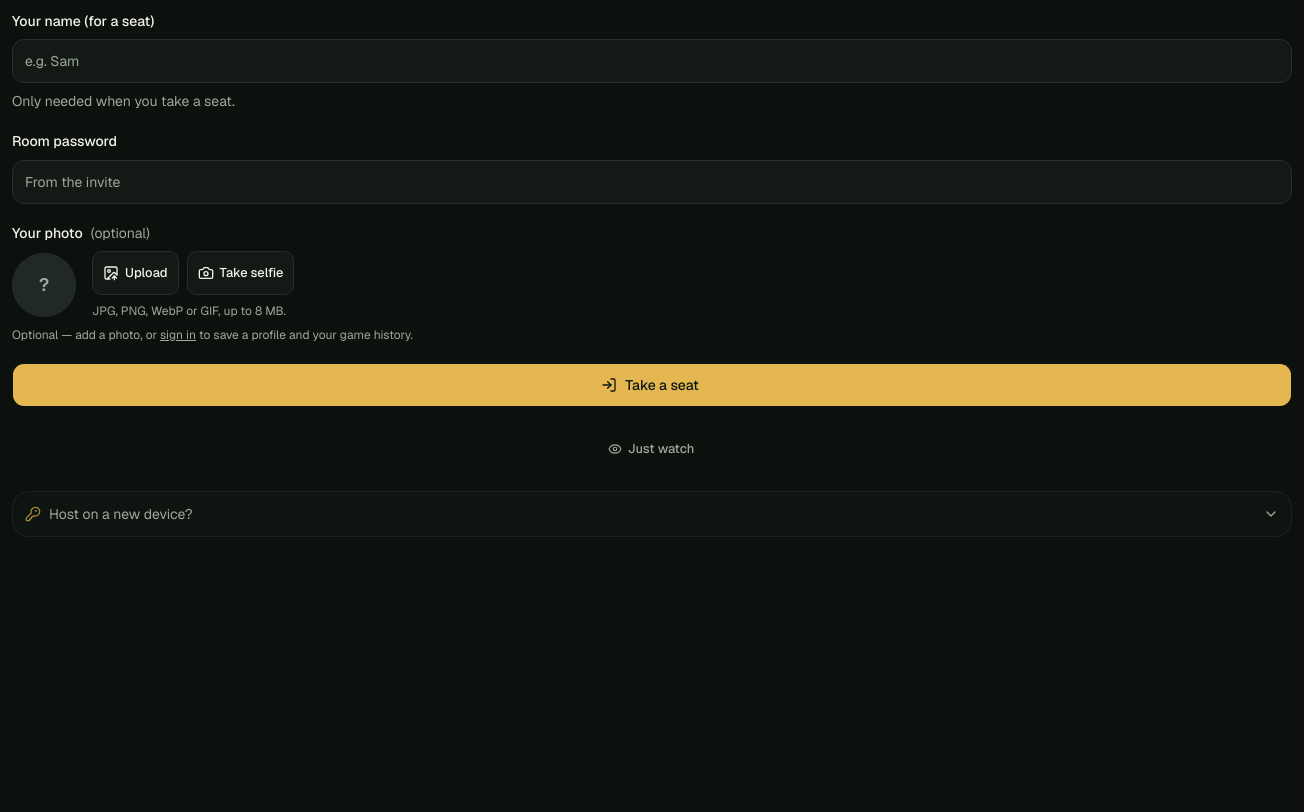
Test: JoinRoomForm › associates a missing player name and focuses it
This screenshot has width=1304, height=812.
Click the button "Take a seat" at (652, 385), box [12,363,1292,407]
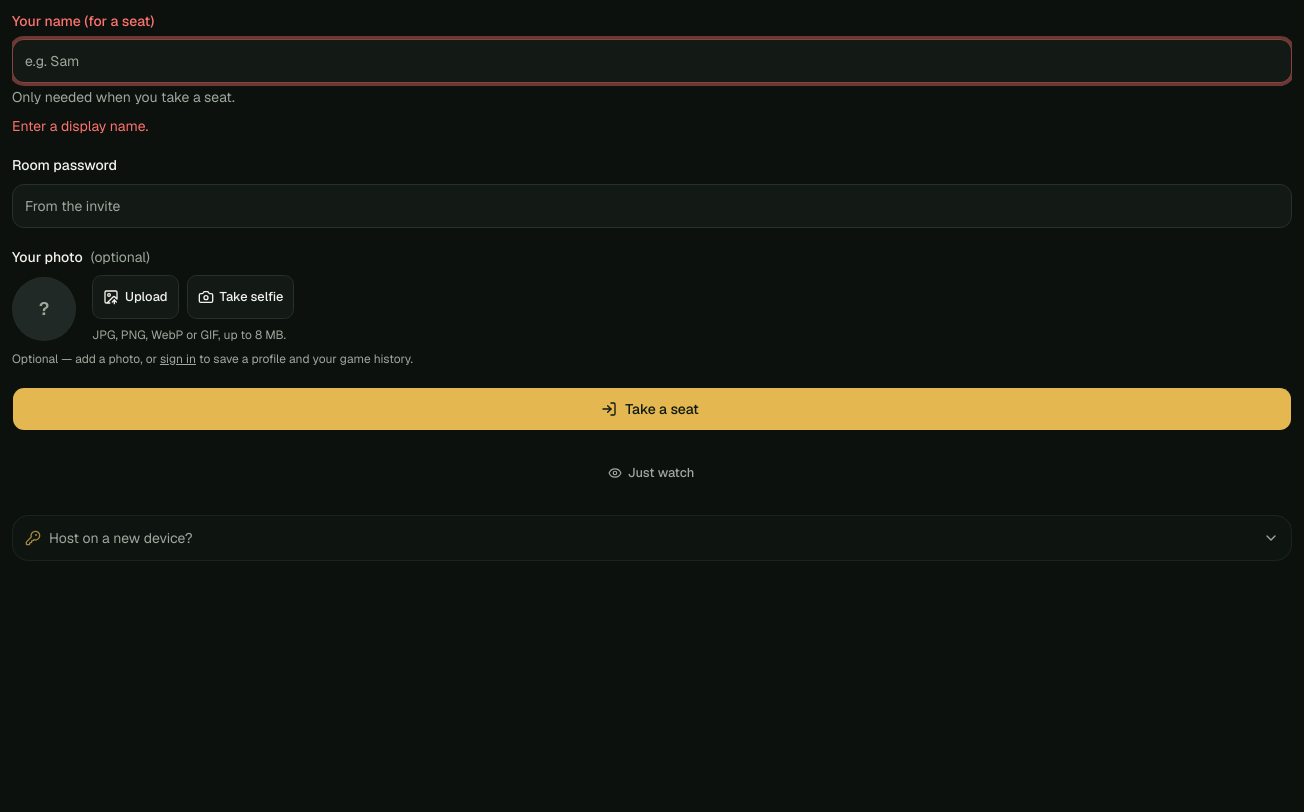
Now the field labelled "Your name (for a seat)" is marked as invalid, box [12,39,1292,83]
